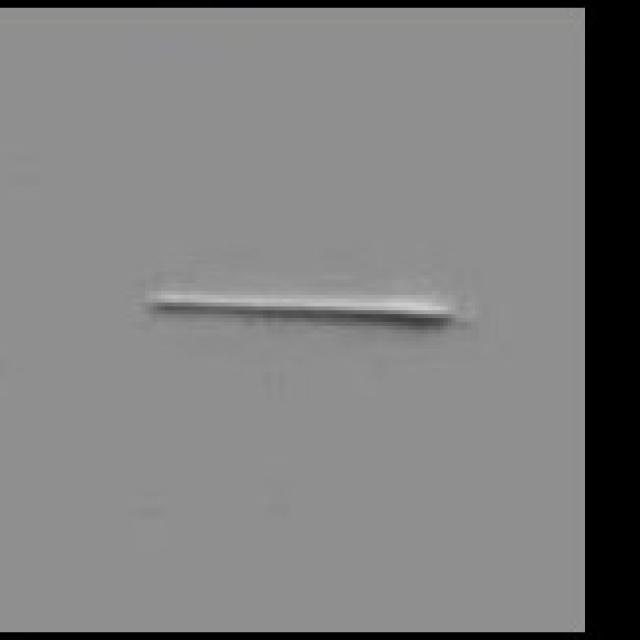Defect4: (129, 225, 480, 366)
